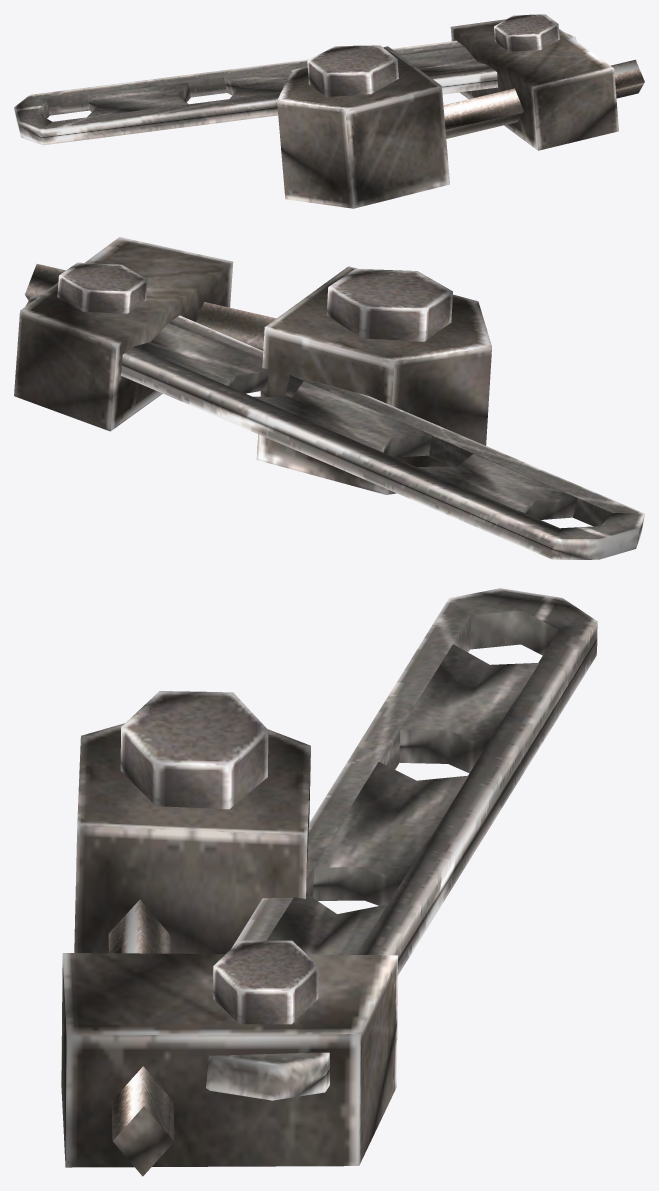
Rendered from Robot01.LeftForeArm1.fbx.
3 renders of one model, top to bottom at view 1: azimuth 30°, elevation 25°; view 2: azimuth 150°, elevation 25°; view 3: azimuth 270°, elevation 25°, orthographic. The views are drawn at different scales.
Parts seen in each view (by area): view 1: Robot01.LeftForeArm1; view 2: Robot01.LeftForeArm1; view 3: Robot01.LeftForeArm1.
Boxes of the visible parts, bbox=[...] form: Robot01.LeftForeArm1: bbox=[14, 14, 644, 208]; Robot01.LeftForeArm1: bbox=[14, 237, 644, 559]; Robot01.LeftForeArm1: bbox=[61, 588, 597, 1176].
Bounding box in the file's own units: 56.78 × 12.71 × 24.83.
